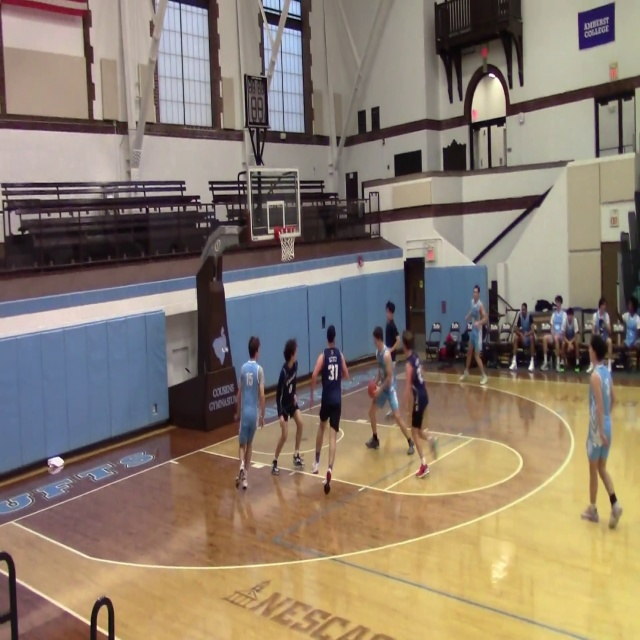Basketball: (367, 381, 381, 398), (566, 343, 575, 354)
